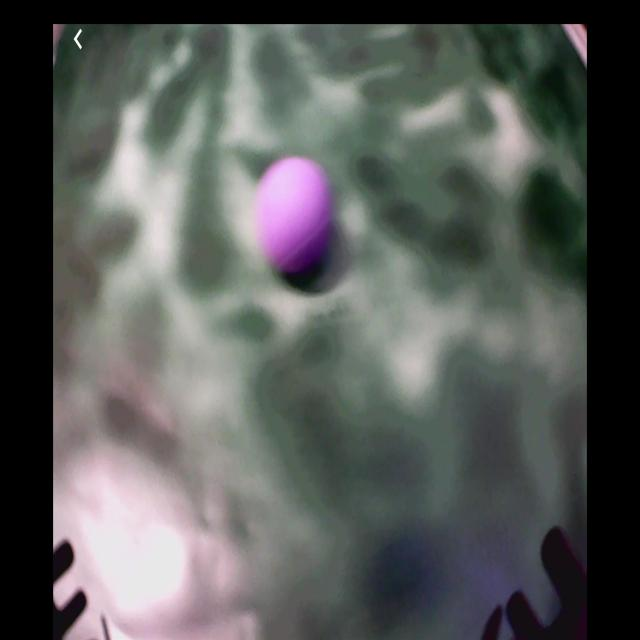ball: (257, 156, 335, 279)
